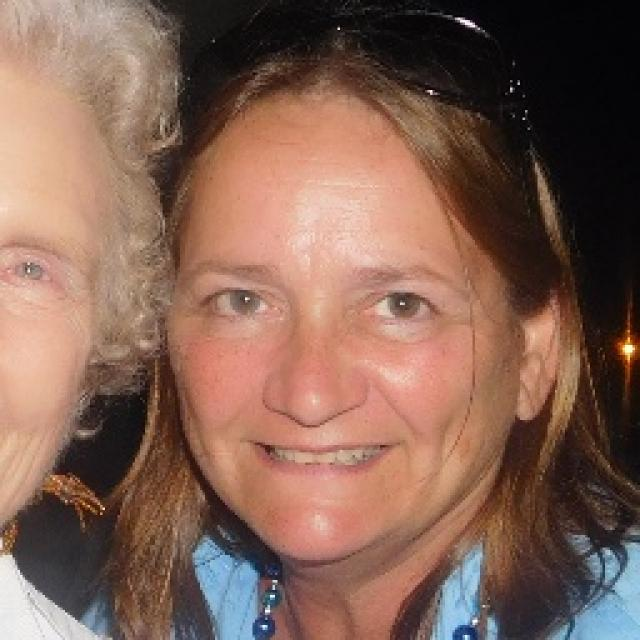earlobe: (514, 288, 564, 419)
